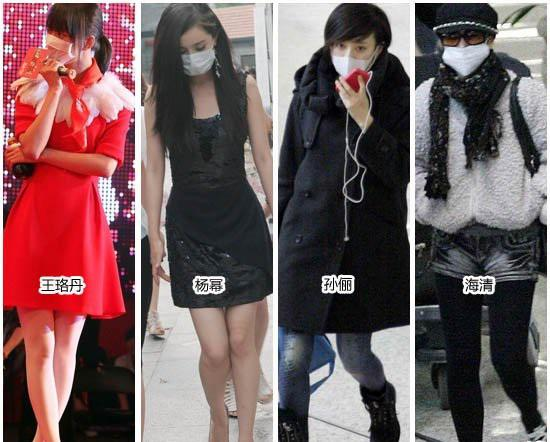OK: (43, 18, 92, 67), (169, 30, 214, 75)
WRONG: (329, 33, 380, 84), (441, 25, 490, 74)
